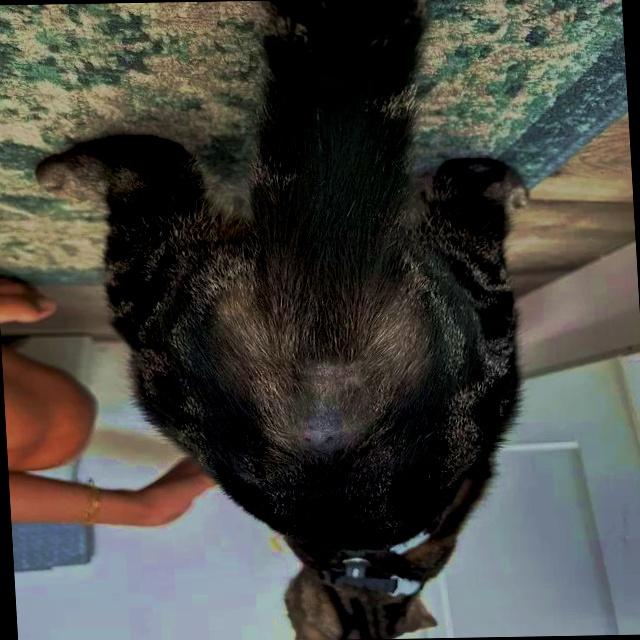hairloss: (270, 349, 370, 461)
